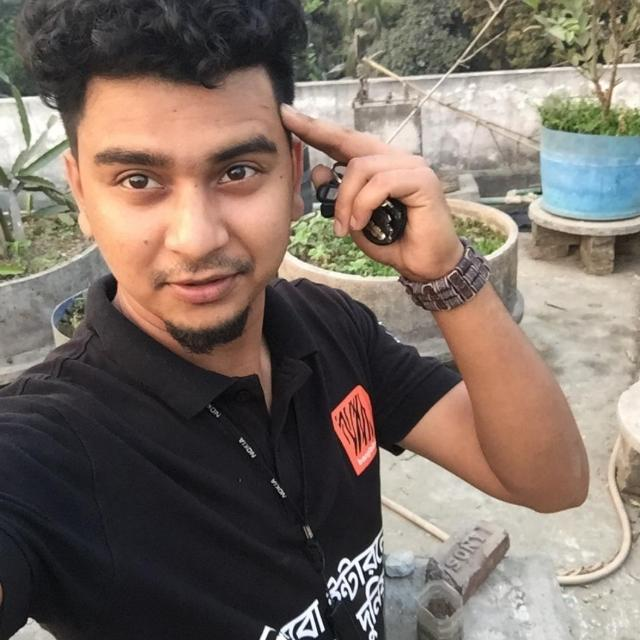Natural: (53, 71, 350, 372)
